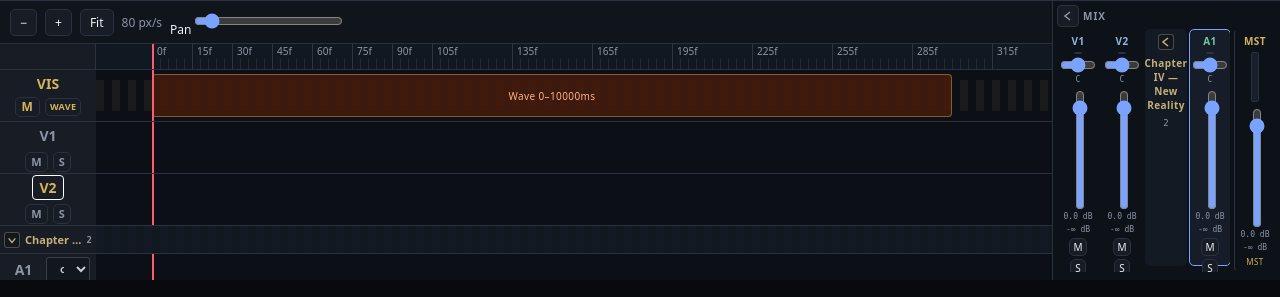
Test: track group collapse chrome › shows the same group in Timeline + Mixer and hides children when collapsed
Expected: the element with test id "mix-A1" is shown, left=1189, top=29, right=1230, bottom=266
Click the button named "Collapse group" below "VIS". click: [12, 240]
box: left=4, top=232, right=20, bottom=248
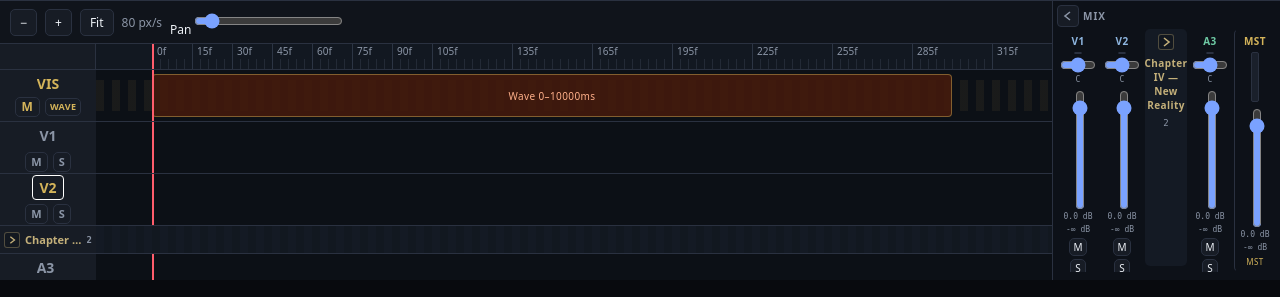
Result: the element with test id "mix-A1" is gone
